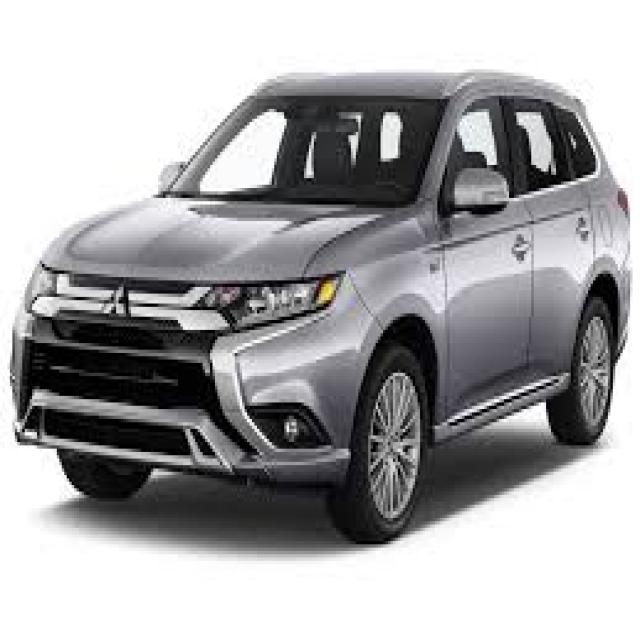light_vehicle: (8, 64, 632, 546)
